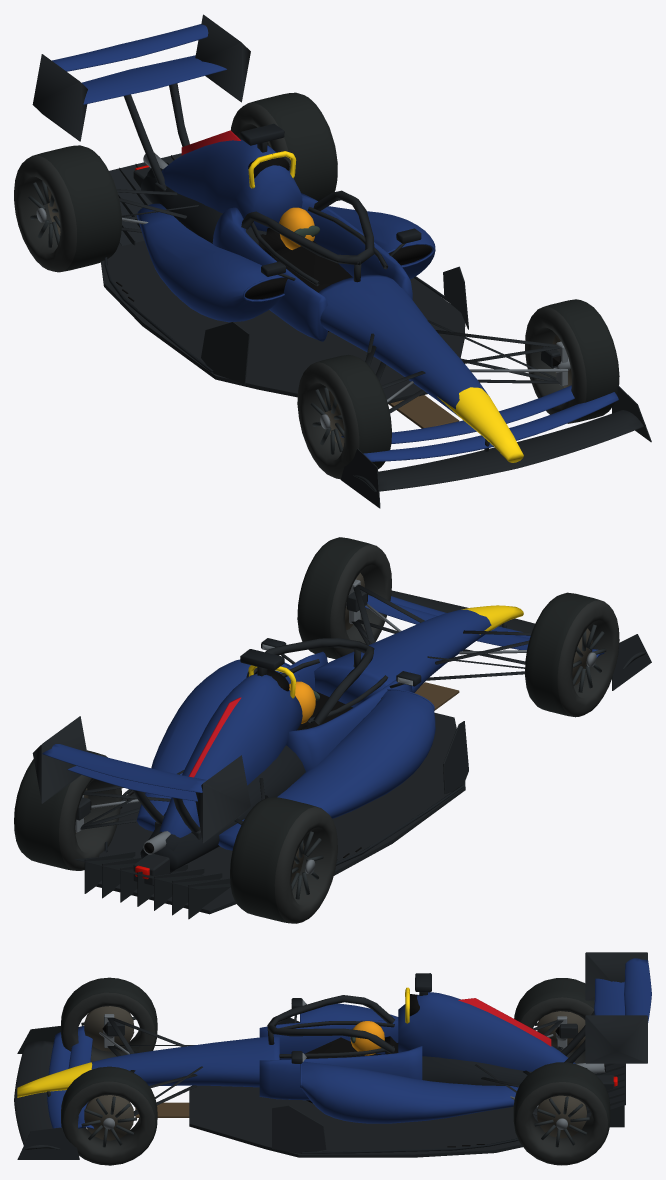
3 views of the same model, one above another, from view 1: azimuth 30°, elevation 25°; view 2: azimuth 150°, elevation 25°; view 3: azimuth 270°, elevation 25° (orthographic). The views are drawn at different scales.
Visible parts, largest first — view 1: L2_Chassis, L2_Wheel_RL, L2_Wheel_FL, L2_Wheel_FR, L2_Wheel_RR; view 2: L2_Chassis, L2_Wheel_RL, L2_Wheel_FL, L2_Wheel_RR, L2_Wheel_FR; view 3: L2_Chassis, L2_Wheel_RR, L2_Wheel_FR, L2_Wheel_FL, L2_Wheel_RL.
Part boxes in pixels (<box>): L2_Chassis: <box>32,14,651,508</box>; L2_Wheel_RL: <box>14,145,121,272</box>; L2_Wheel_FL: <box>297,354,391,479</box>; L2_Wheel_FR: <box>525,299,619,423</box>; L2_Wheel_RR: <box>231,92,337,201</box>; L2_Chassis: <box>32,573,651,919</box>; L2_Wheel_RL: <box>230,796,337,923</box>; L2_Wheel_FL: <box>525,592,619,717</box>; L2_Wheel_RR: <box>14,750,121,870</box>; L2_Wheel_FR: <box>297,537,391,659</box>; L2_Chassis: <box>14,952,651,1159</box>; L2_Wheel_RR: <box>513,1062,610,1165</box>; L2_Wheel_FR: <box>61,1066,157,1165</box>; L2_Wheel_FL: <box>61,977,157,1061</box>; L2_Wheel_RL: <box>514,978,594,1063</box>.
Size of the model in its own units: 1.9 by 1.13 by 4.79.
